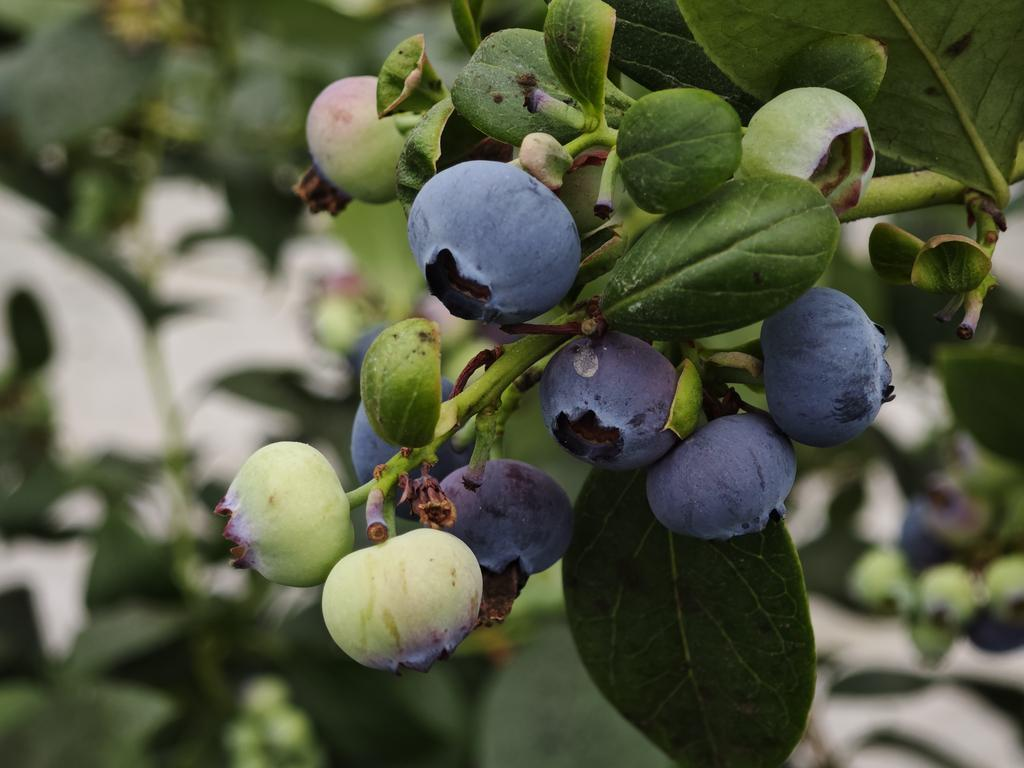RipeBlueBerry: (409, 154, 583, 320), (646, 415, 798, 544), (769, 290, 897, 435), (547, 335, 679, 474)
Semi-RipeBlueBerry: (324, 522, 484, 673), (217, 440, 354, 590)
